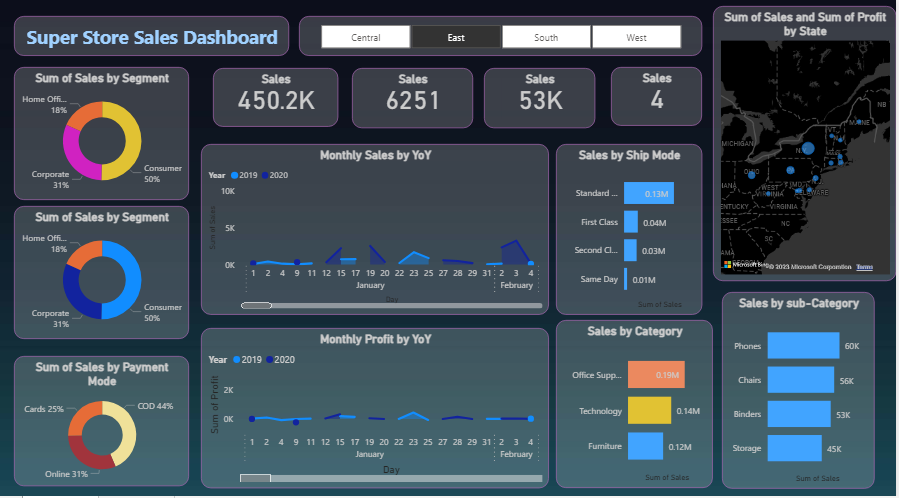

The page's visual inventory and layout, read from the dashboard file:
{"tool":"powerbi","page":{"name":"Page 1","canvas":[1280,720],"ordinal":0},"visuals":[{"type":"clusteredBarChart","title":"Sales by Category","fields":{"Category":["SuperStore_Sales_Dataset.Category"],"Y":["Sum(SuperStore_Sales_Dataset.Sales)"]},"box":[794.3,460,224.3,240],"z":0},{"type":"clusteredBarChart","title":"Sales by sub-Category","fields":{"Category":["SuperStore_Sales_Dataset.Sub-Category"],"Y":["Sum(SuperStore_Sales_Dataset.Sales)"]},"box":[1031.4,419.9,218.4,280.5],"z":1000},{"type":"clusteredBarChart","title":"Sales by Ship Mode","fields":{"Category":["SuperStore_Sales_Dataset.Ship Mode","SuperStore_Sales_Dataset.Sub-Category"],"Y":["Sum(SuperStore_Sales_Dataset.Sales)"]},"box":[794.3,208.6,208.6,244.3],"z":2000},{"type":"areaChart","title":"Monthly Sales by YoY","fields":{"Y":["Sum(SuperStore_Sales_Dataset.Sales)"],"Series":["SuperStore_Sales_Dataset.Order Date.Variation.Date Hierarchy.Year"],"Category":["SuperStore_Sales_Dataset.Order Date.Variation.Date Hierarchy.Month","SuperStore_Sales_Dataset.Order Date.Variation.Date Hierarchy.Day"]},"box":[287.1,208.6,497.1,244.3],"z":3000},{"type":"areaChart","title":"Monthly Profit by YoY","fields":{"Category":["SuperStore_Sales_Dataset.Order Date.Variation.Date Hierarchy.Month","SuperStore_Sales_Dataset.Order Date.Variation.Date Hierarchy.Day"],"Series":["SuperStore_Sales_Dataset.Order Date.Variation.Date Hierarchy.Year"],"Y":["Sum(SuperStore_Sales_Dataset.Profit)"]},"box":[287.1,471.4,497.1,228.6],"z":4000},{"type":"map","fields":{"Category":["SuperStore_Sales_Dataset.State"],"Size":["Sum(SuperStore_Sales_Dataset.Sales)"]},"box":[1018,11.8,262,393.1],"z":5000},{"type":"donutChart","fields":{"Category":["SuperStore_Sales_Dataset.Segment"],"Y":["Sum(SuperStore_Sales_Dataset.Sales)"]},"box":[20,297.1,250,190],"z":6000},{"type":"donutChart","fields":{"Category":["SuperStore_Sales_Dataset.Payment Mode"],"Y":["Sum(SuperStore_Sales_Dataset.Sales)"]},"box":[20,511.4,250,185.7],"z":7000},{"type":"slicer","fields":{"Values":["SuperStore_Sales_Dataset.Region"]},"box":[427.1,25.7,575.7,57.1],"z":8000},{"type":"textbox","box":[20,25.7,392.9,57.1],"z":9000},{"type":"card","title":"Sales","fields":{"Values":["Sum(SuperStore_Sales_Dataset.Sales)"]},"box":[304.3,100,178.6,84.3],"z":10000},{"type":"card","title":"Sales","fields":{"Values":["Sum(SuperStore_Sales_Dataset.Quantity)"]},"box":[502.9,100,172.9,85.7],"z":11000},{"type":"card","title":"Sales","fields":{"Values":["Sum(SuperStore_Sales_Dataset.Profit)"]},"box":[691.4,100,158.6,85.7],"z":12000},{"type":"card","title":"Sales","fields":{"Values":["Avg(SuperStore_Sales_Dataset.AvgDelivery)"]},"box":[872.9,98.6,130,84.3],"z":13000},{"type":"donutChart","fields":{"Category":["SuperStore_Sales_Dataset.Segment"],"Y":["Sum(SuperStore_Sales_Dataset.Sales)"]},"box":[20,98.6,250,190],"z":14000}]}

Visuals, with their boxes in screenshot pixels (x1, y1, x2, y2), scaled from the page's 1280x720 canvas onto the 899x498 screenshot:
"Sales by Category" clusteredBarChart: 558 318 715 484
"Sales by sub-Category" clusteredBarChart: 724 290 878 484
"Sales by Ship Mode" clusteredBarChart: 558 144 704 313
"Monthly Sales by YoY" areaChart: 202 144 551 313
"Monthly Profit by YoY" areaChart: 202 326 551 484
map - SuperStore_Sales_Dataset.State x Sum(SuperStore_Sales_Dataset.Sales): 715 8 898 280
donutChart - SuperStore_Sales_Dataset.Segment x Sum(SuperStore_Sales_Dataset.Sales): 14 205 190 337
donutChart - SuperStore_Sales_Dataset.Payment Mode x Sum(SuperStore_Sales_Dataset.Sales): 14 354 190 482
slicer - SuperStore_Sales_Dataset.Region: 300 18 704 57
textbox: 14 18 290 57
"Sales" card: 214 69 339 127
"Sales" card: 353 69 475 128
"Sales" card: 486 69 597 128
"Sales" card: 613 68 704 127
donutChart - SuperStore_Sales_Dataset.Segment x Sum(SuperStore_Sales_Dataset.Sales): 14 68 190 200
